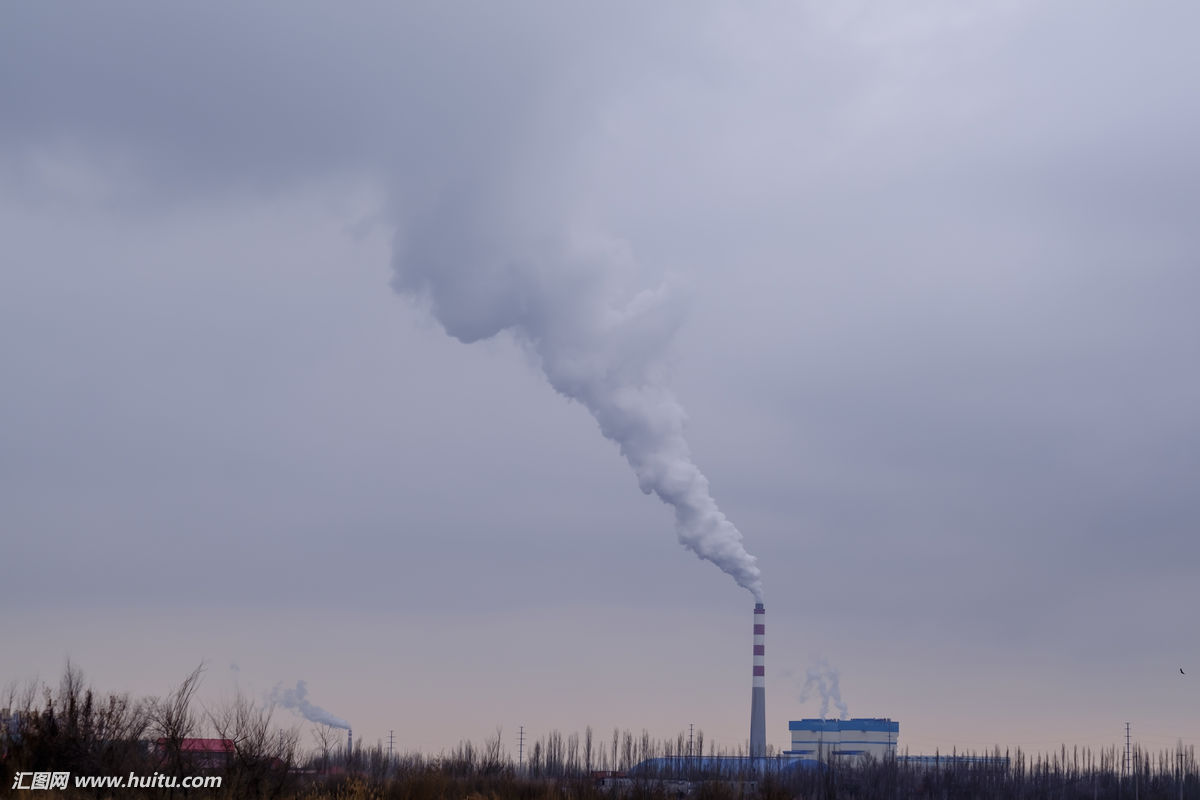dust: (598, 392, 779, 618)
